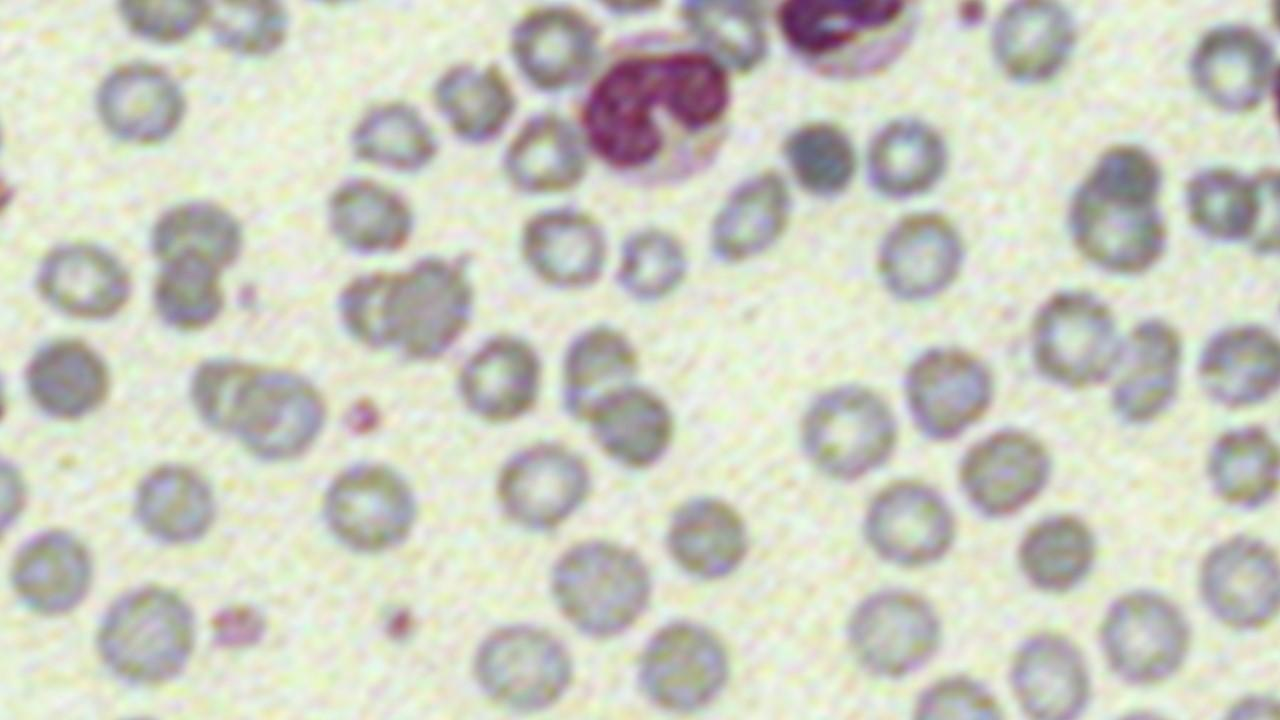RBC: (578, 54, 740, 187), (1059, 143, 1175, 281), (541, 534, 654, 641), (836, 579, 948, 684), (796, 378, 902, 484), (1024, 286, 1124, 398), (1094, 583, 1196, 691), (315, 456, 423, 558), (378, 254, 478, 364), (233, 359, 334, 465), (896, 339, 996, 445), (490, 436, 594, 536), (870, 206, 970, 309), (954, 425, 1056, 524), (29, 234, 138, 326), (554, 317, 644, 428), (88, 55, 192, 151), (702, 163, 794, 270), (1192, 525, 1280, 636), (859, 476, 959, 573), (451, 328, 549, 424), (858, 108, 954, 205), (515, 201, 614, 295), (1002, 622, 1098, 718), (1189, 313, 1279, 415), (320, 172, 421, 262), (342, 93, 447, 179), (584, 379, 678, 474), (182, 348, 274, 444), (496, 105, 590, 198), (1200, 414, 1280, 516), (606, 220, 692, 308), (330, 263, 413, 354), (147, 243, 227, 335), (662, 47, 734, 133), (0, 436, 31, 552)
WBC: (574, 48, 740, 194)
